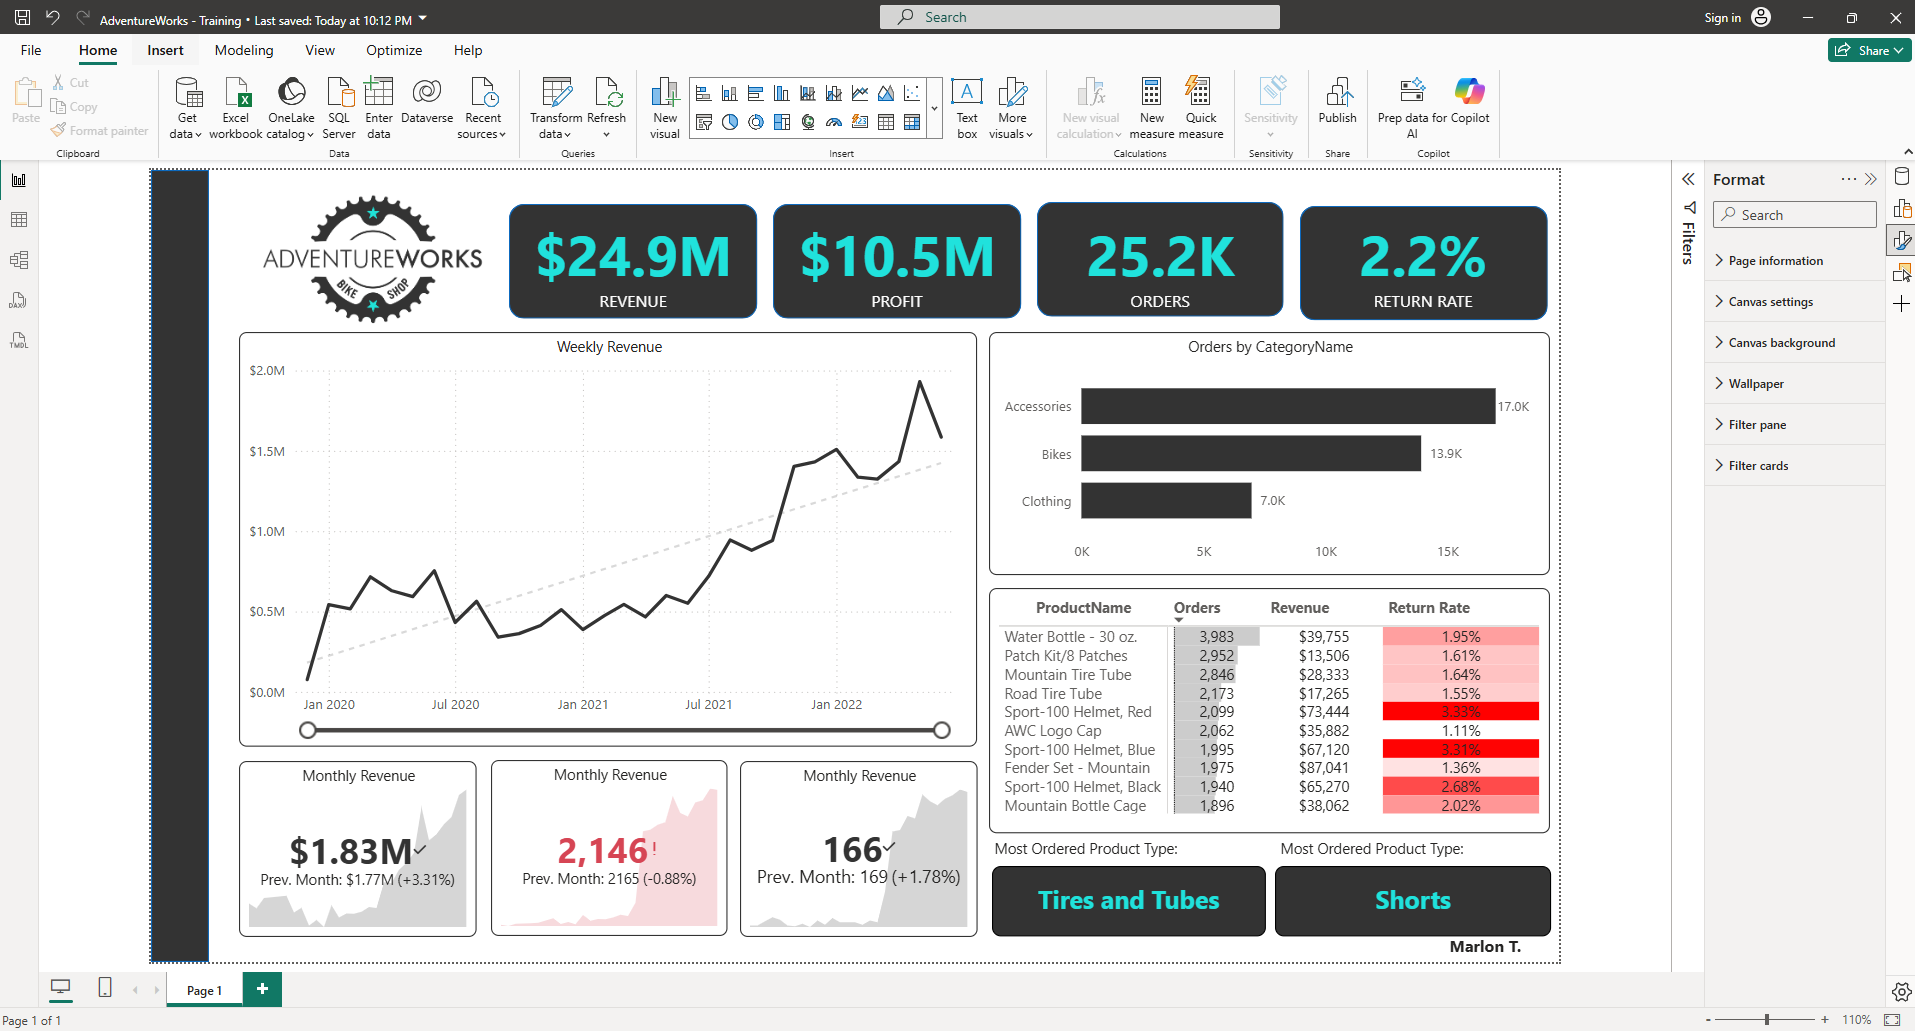

This screenshot's page, from the dashboard's own definition file:
{"tool":"powerbi","page":{"name":"Page 1","canvas":[1280,720],"ordinal":0},"visuals":[{"type":"card","fields":{"Values":["Measure Table.Total Orders"]},"box":[805.7,20.7,224.3,128.6],"z":0,"group":"g2"},{"type":"group","id":"g1","title":"Group 1","box":[326.1,28.8,944.2,108],"z":0,"group":"g3"},{"type":"shape","box":[326.1,30.5,225.7,104.3],"z":0,"group":"g1"},{"type":"card","fields":{"Values":["Min(Product Subcategories Lookup.SubcategoryName)"]},"box":[764.3,632.9,248.6,64.3],"z":0},{"type":"textbox","box":[1175.7,690,104.3,30],"z":0},{"type":"shape","box":[0,0,52.7,720],"z":1000},{"type":"group","id":"g2","title":"Group 2","box":[325.7,20.7,944.3,128.6],"z":1000,"group":"g3"},{"type":"card","fields":{"Values":["Measure Table.Total Profit"]},"box":[565.7,21.4,225.7,127.1],"z":1000,"group":"g2"},{"type":"shape","box":[566.1,30.5,225.7,104.3],"z":1000,"group":"g1"},{"type":"card","fields":{"Values":["Min(Product Subcategories Lookup.SubcategoryName)"]},"box":[1021.4,632.9,251.4,64.3],"z":1000},{"type":"image","box":[80,18.6,244.3,125.7],"z":2000},{"type":"card","fields":{"Values":["Measure Table.Return Rate"]},"box":[1044.3,21.4,225.7,127.1],"z":2000,"group":"g2"},{"type":"shape","box":[806.1,28.8,224.3,104.3],"z":2000,"group":"g1"},{"type":"textbox","box":[761.4,602.9,208.6,30],"z":2000},{"type":"card","fields":{"Values":["Measure Table.Total Revenue"]},"box":[325.7,20.7,225.7,128.6],"z":3000,"group":"g2"},{"type":"shape","box":[1045,32.9,225.4,103.9],"z":3000,"group":"g1"},{"type":"lineChart","title":"Weekly Revenue","fields":{"Category":["Calendar Lookup.Start of Week.Variation.Date Hierarchy.Year","Calendar Lookup.Start of Week.Variation.Date Hierarchy.Month"],"Y":["Measure Table.Total Revenue"]},"box":[80,147.1,671.4,377.1],"z":3000},{"type":"barChart","title":"Orders by CategoryName","fields":{"Category":["Product Categories Lookup.CategoryName"],"Y":["Measure Table.Total Orders"]},"box":[761.4,147.1,510,221.4],"z":4000},{"type":"pivotTable","fields":{"Rows":["Product Lookup.ProductName"],"Values":["Measure Table.Total Orders","Measure Table.Total Revenue","Measure Table.Return Rate"]},"box":[761.4,380,510,222.9],"z":5000},{"type":"kpi","title":"Monthly Revenue","fields":{"Goal":["Measure Table.Previous Monh Revenue"],"Indicator":["Measure Table.Total Revenue"],"TrendLine":["Calendar Lookup.Start of Month"]},"box":[80,537,215.7,160],"z":6000},{"type":"kpi","title":"Monthly Revenue","fields":{"Goal":["Measure Table.Previous Month Orders"],"Indicator":["Measure Table.Total Orders"],"TrendLine":["Calendar Lookup.Start of Month"]},"box":[308.9,536.7,215,160],"z":7000},{"type":"kpi","title":"Monthly Revenue","fields":{"Goal":["Measure Table.Previous Month Returns"],"Indicator":["Measure Table.Total Returrn"],"TrendLine":["Calendar Lookup.Start of Month"]},"box":[535.7,537.1,215.7,160],"z":8000},{"type":"group","id":"g3","title":"KPI","box":[325.7,20.7,944.6,128.6],"z":9000},{"type":"textbox","box":[1021.4,602.9,208.6,30],"z":9001}]}

Visuals, with their boxes on the page's 1280x720 design canvas (x1, y1, x2, y2). These are canvas units, not pixel positions in the 1915x1031 screenshot, which may show the page scaled, cropped or inside an application window:
card - Measure Table.Total Orders: region(806, 21, 1030, 149)
"Group 1" group: region(326, 29, 1270, 137)
shape: region(326, 30, 552, 135)
card - Min(Product Subcategories Lookup.SubcategoryName): region(764, 633, 1013, 697)
textbox: region(1176, 690, 1280, 720)
shape: region(0, 0, 53, 720)
"Group 2" group: region(326, 21, 1270, 149)
card - Measure Table.Total Profit: region(566, 21, 791, 148)
shape: region(566, 30, 792, 135)
card - Min(Product Subcategories Lookup.SubcategoryName): region(1021, 633, 1273, 697)
image: region(80, 19, 324, 144)
card - Measure Table.Return Rate: region(1044, 21, 1270, 148)
shape: region(806, 29, 1030, 133)
textbox: region(761, 603, 970, 633)
card - Measure Table.Total Revenue: region(326, 21, 551, 149)
shape: region(1045, 33, 1270, 137)
"Weekly Revenue" lineChart: region(80, 147, 751, 524)
"Orders by CategoryName" barChart: region(761, 147, 1271, 368)
pivotTable - Product Lookup.ProductName x Measure Table.Total Orders: region(761, 380, 1271, 603)
"Monthly Revenue" kpi: region(80, 537, 296, 697)
"Monthly Revenue" kpi: region(309, 537, 524, 697)
"Monthly Revenue" kpi: region(536, 537, 751, 697)
"KPI" group: region(326, 21, 1270, 149)
textbox: region(1021, 603, 1230, 633)
